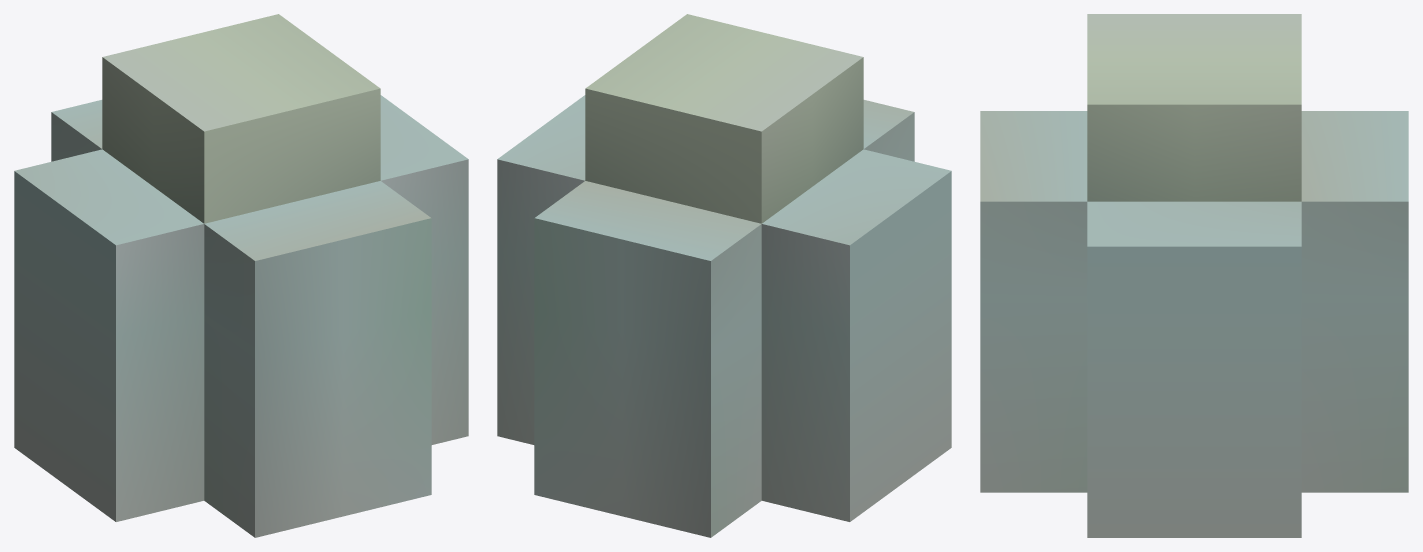
The model's file is JarGlass_01.fbx.
The picture shows the model from 3 angles, left to right: view 1: azimuth 30°, elevation 25°; view 2: azimuth 150°, elevation 25°; view 3: azimuth 270°, elevation 25°; orthographic projection. The views are drawn at different scales.
Visible parts, largest first — view 1: JarGlass_01; view 2: JarGlass_01; view 3: JarGlass_01.
Boxes of the visible parts, <box> form: JarGlass_01: <box>14,14,468,537</box>; JarGlass_01: <box>497,14,951,537</box>; JarGlass_01: <box>980,14,1408,537</box>.
Size of the model in its own units: 20 by 20 by 20.
1 material, 1 textured.
